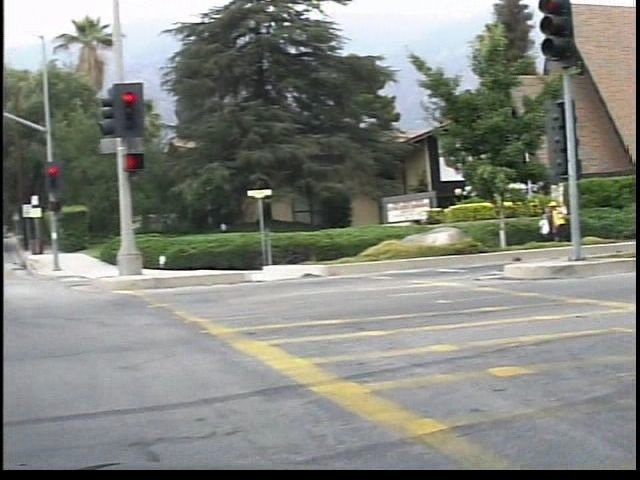person: (556, 191, 580, 246)
